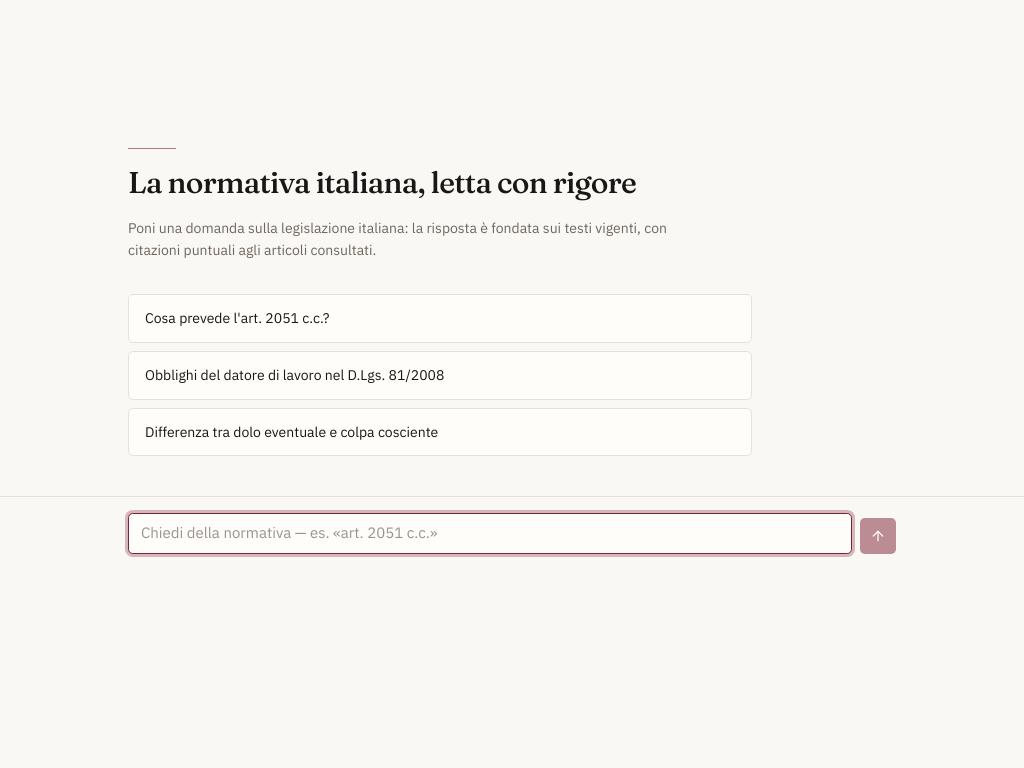
Test: FeedbackButtons in Chat › 👎 → input motivo, invio → POST con rating -1 e reason
The image size is (1024, 768).
Type "art. 2051 c.c." into the text box named "Domanda sulla normativa" at (490, 534), box [128,513,852,554]
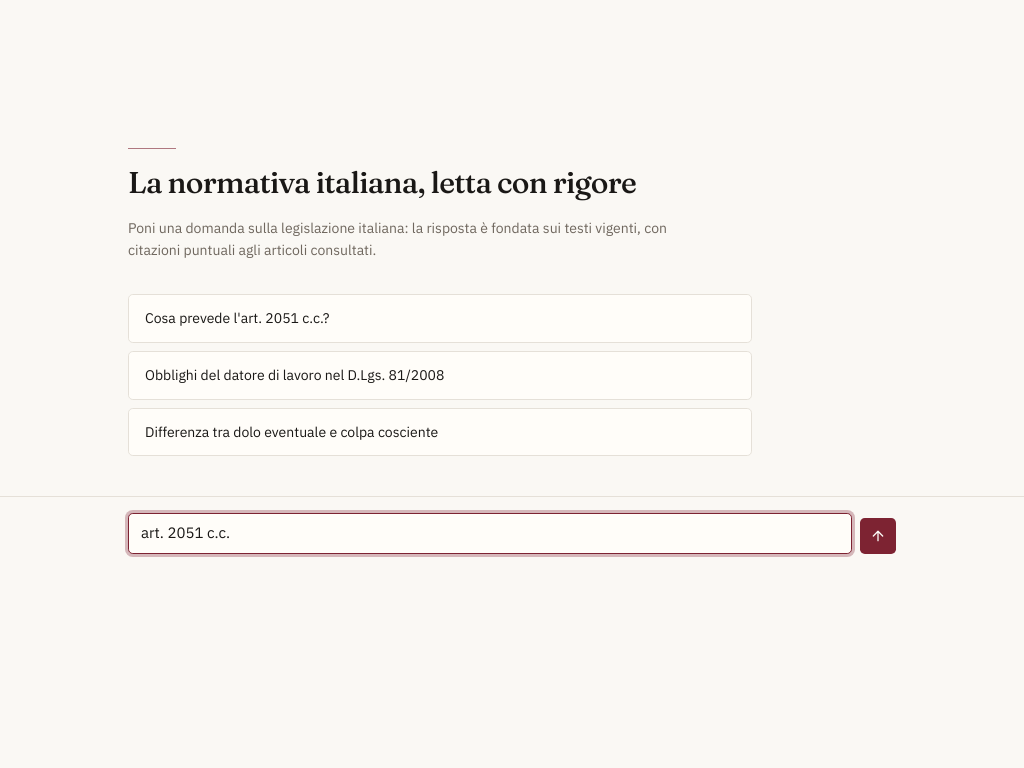
Press Enter in the text box named "Domanda sulla normativa", box [128,513,852,554]
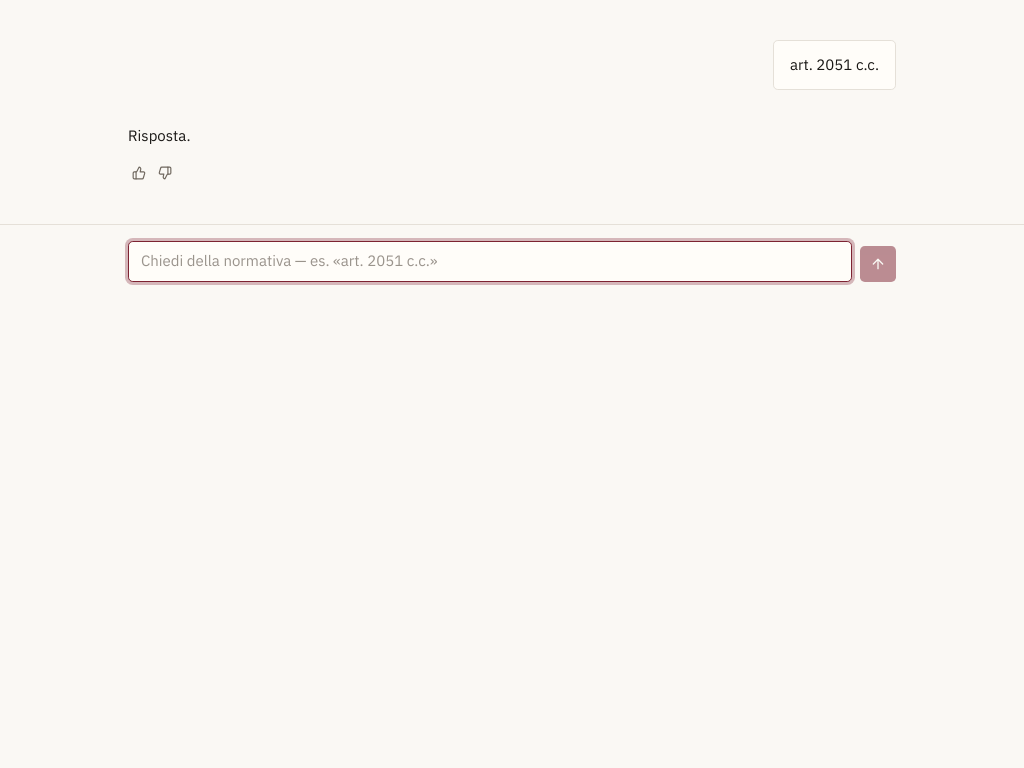
Click the button named "Risposta non utile" at (165, 173), box [154,162,176,184]
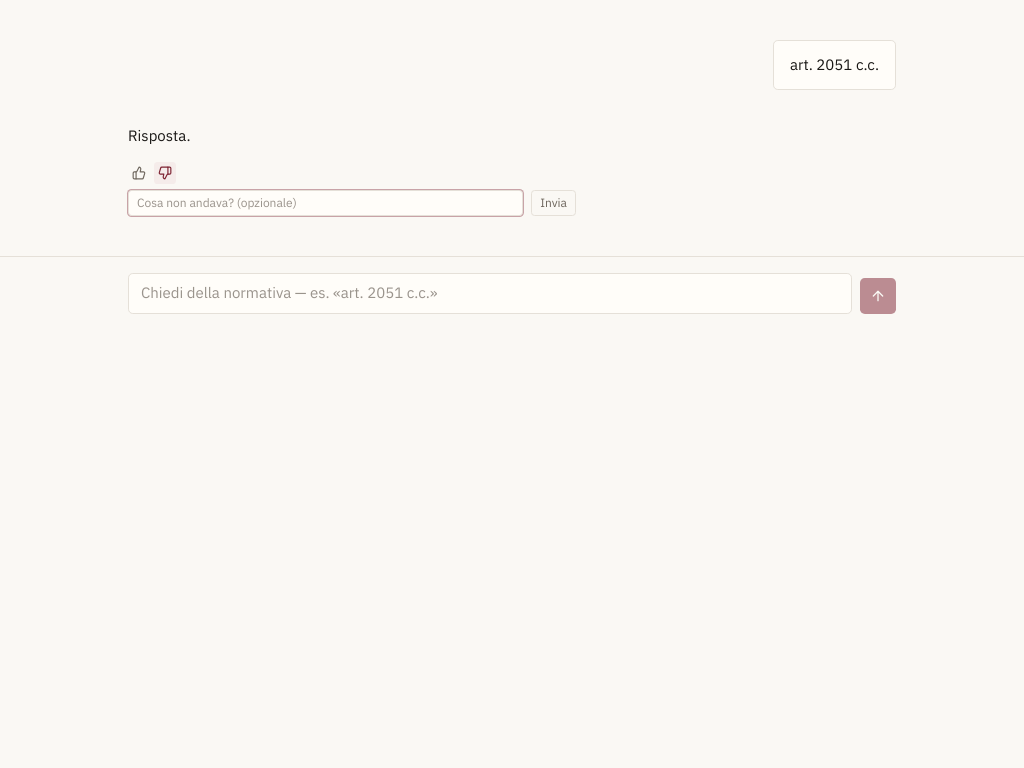
Type "Cita male l'articolo." into the field labelled "Cosa non andava? (opzionale)" at (326, 203), box [128,190,523,216]
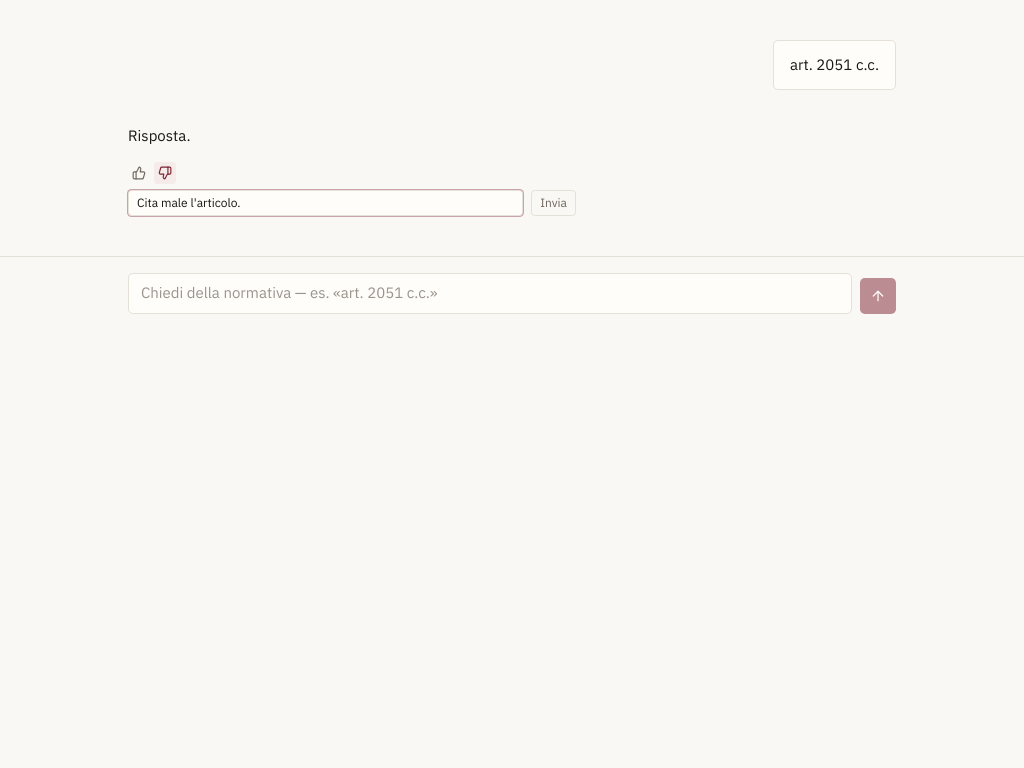
Click the button with aria-label "Invia il feedback" at (554, 203), box [531,190,576,216]
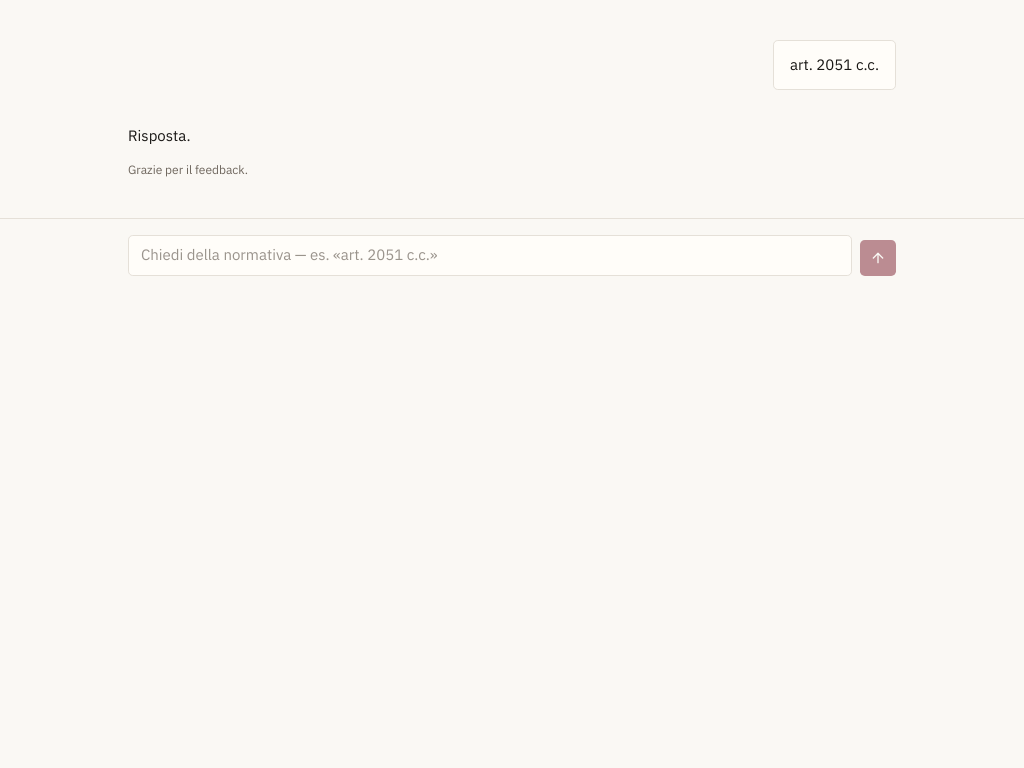
Expected: the text "Grazie per il feedback." is shown, [128,162,248,177]
